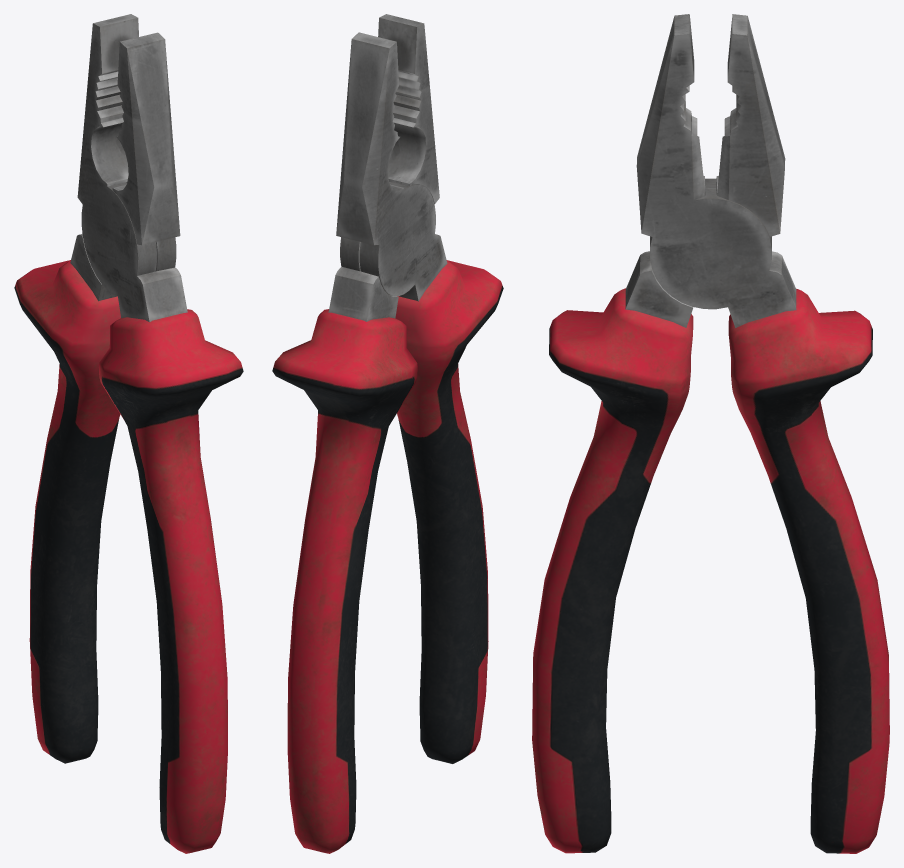
The model's file is pliers.glb.
The picture shows the model from 3 angles, left to right: view 1: azimuth 30°, elevation 25°; view 2: azimuth 150°, elevation 25°; view 3: azimuth 270°, elevation 25°; orthographic projection. The views are drawn at different scales.
Visible parts, largest first — view 1: Righ, Left; view 2: Left, Righ; view 3: Left, Righ.
Boxes of the visible parts, <box> form: Righ: <box>77,14,243,853</box>; Left: <box>14,32,180,763</box>; Left: <box>272,14,439,853</box>; Righ: <box>336,32,503,763</box>; Left: <box>636,14,889,853</box>; Righ: <box>532,14,785,853</box>.
Size of the model in its own units: 0.0267 by 0.193 by 0.0759.
1 material, 1 textured.
